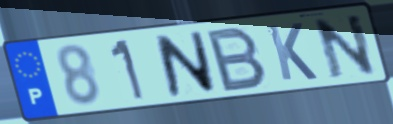1: (108, 37, 147, 103)
8: (54, 42, 103, 109)
B: (205, 24, 269, 94)
K: (264, 21, 321, 83)
N: (310, 11, 380, 81), (152, 29, 219, 99)
